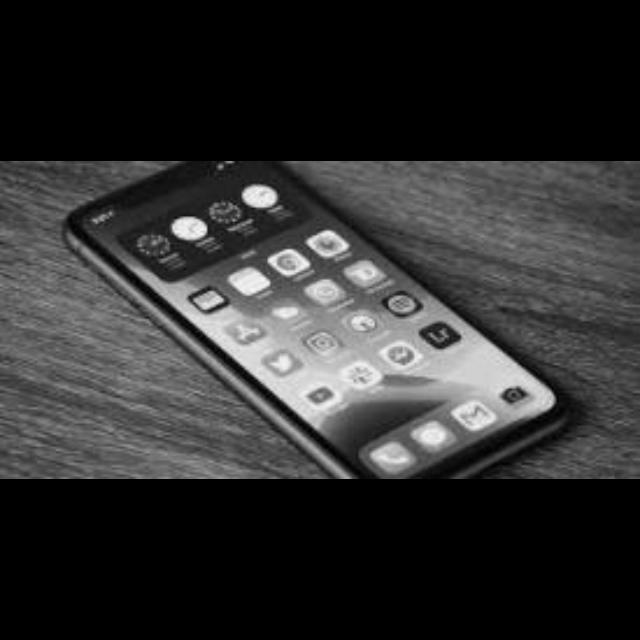fake: (36, 166, 610, 470)
